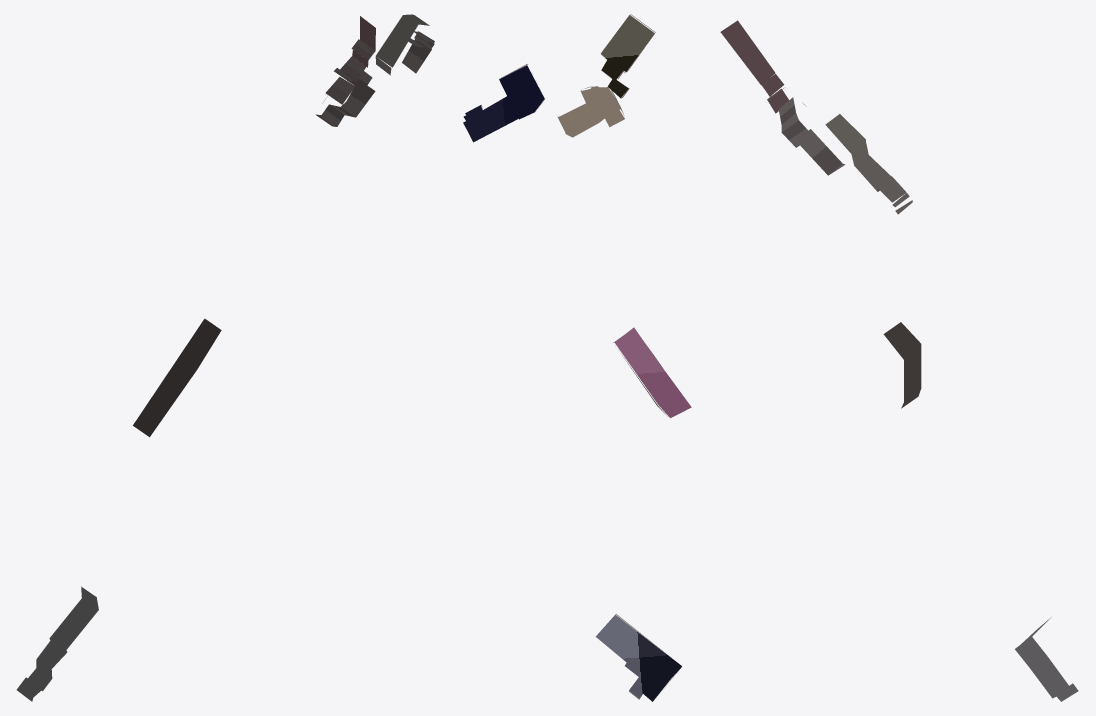
Rendered from tile_LOD3_r3_c0.glb.
3 renders of one model, left to right at view 1: azimuth 30°, elevation 25°; view 2: azimuth 150°, elevation 25°; view 3: azimuth 270°, elevation 25°, orthographic. The views are drawn at different scales.
Bounding box in the file's own units: 72.5 × 147 × 62.
Materials: 13 (9 with a texture image).
